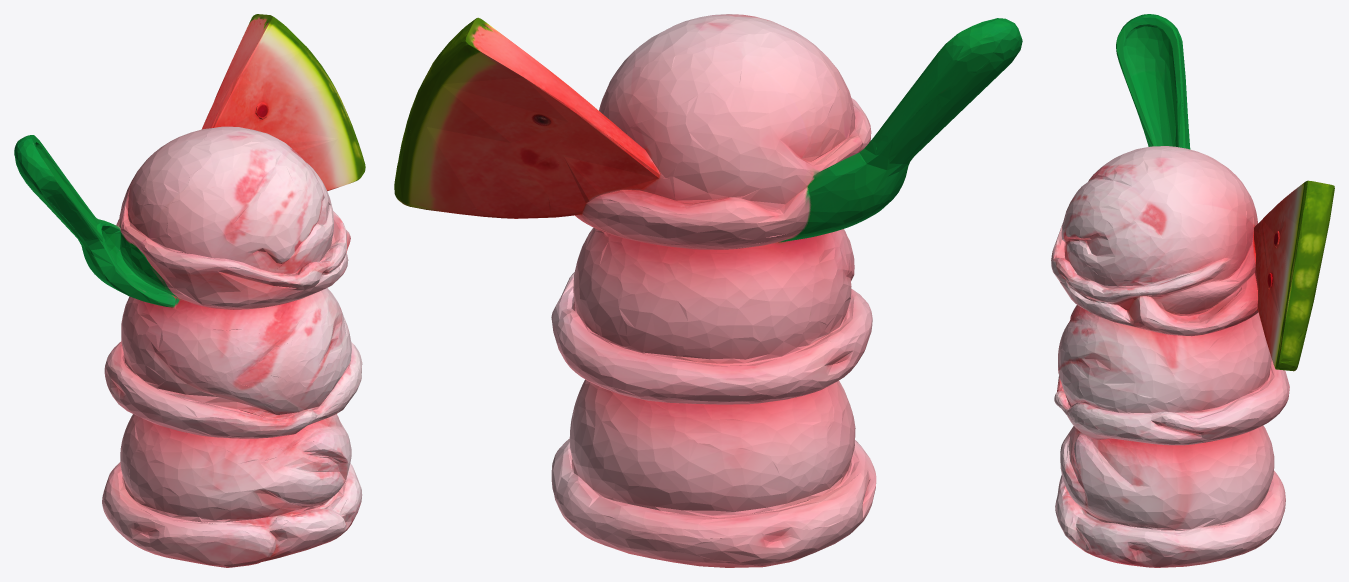
File: Web_IceCream_Melon.obj
The picture shows the model from 3 angles, left to right: view 1: azimuth 30°, elevation 25°; view 2: azimuth 150°, elevation 25°; view 3: azimuth 270°, elevation 25°; orthographic projection. The views are drawn at different scales.
Parts seen in each view (by area): view 1: Web_IceCream_Melon; view 2: Web_IceCream_Melon; view 3: Web_IceCream_Melon.
Boxes of the visible parts, x1=… form: Web_IceCream_Melon: x1=14, y1=14, x2=365, y2=567; Web_IceCream_Melon: x1=394, y1=14, x2=1022, y2=567; Web_IceCream_Melon: x1=1051, y1=14, x2=1334, y2=567.
Size of the model in its own units: 0.9424 by 0.9422 by 0.5886.
Materials: 1 (1 with a texture image).
